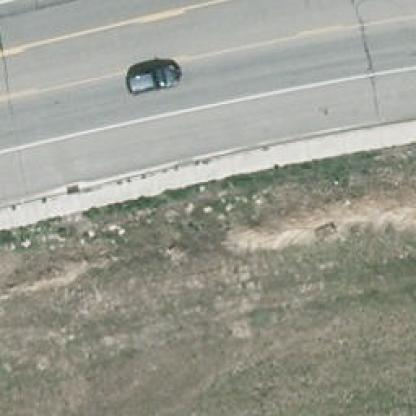car: (124, 62, 182, 94)
